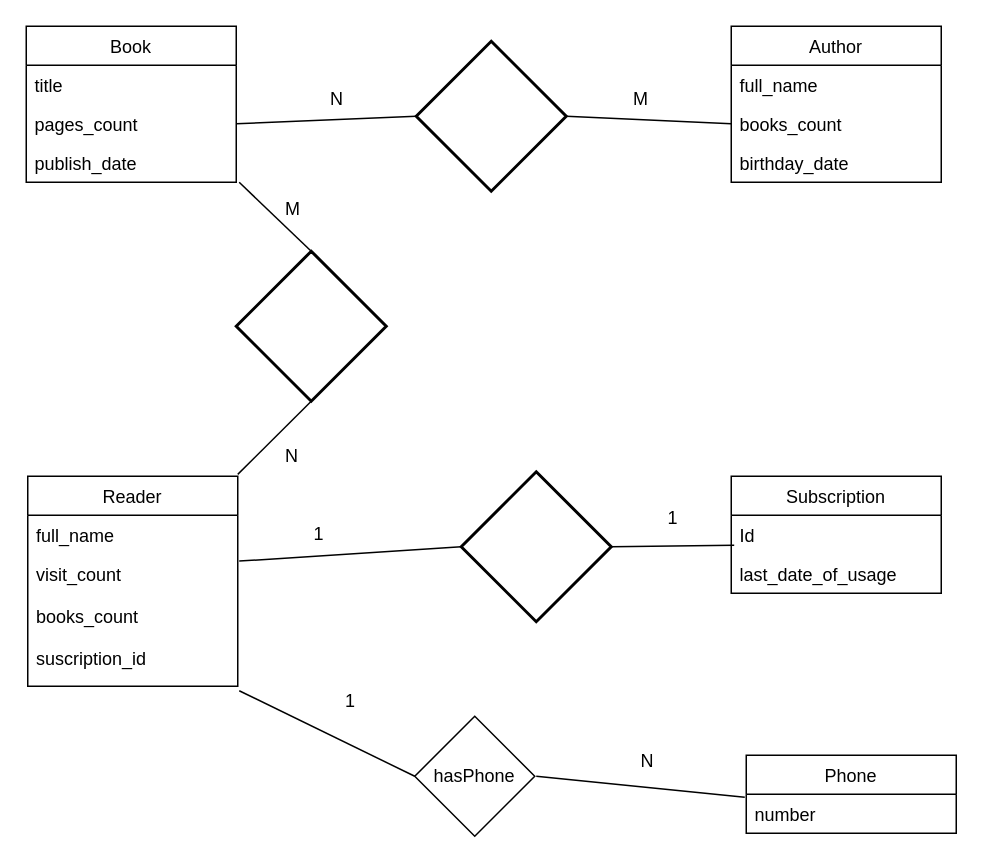
The diagram is 983 pixels wide and 864 high, and some of its shapes have lost their labels. Each missing label, with the centre of its shape:
has: [535,546]
read: [310,325]
wrote: [490,115]
